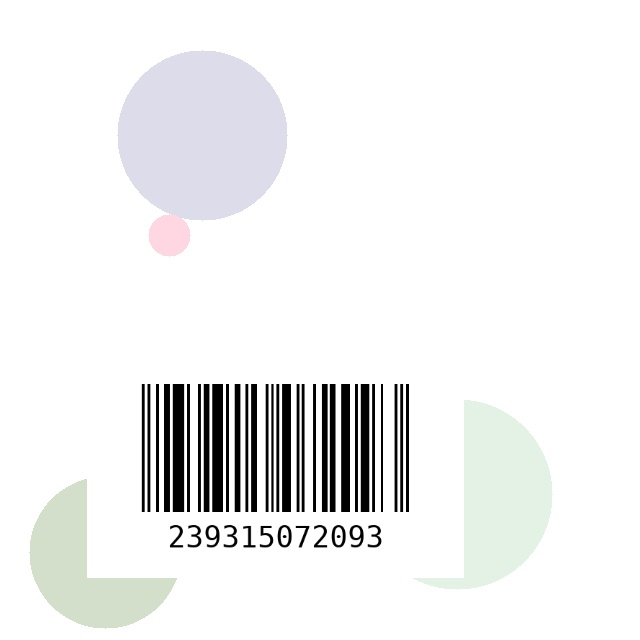barcode: (87, 376, 464, 578)
